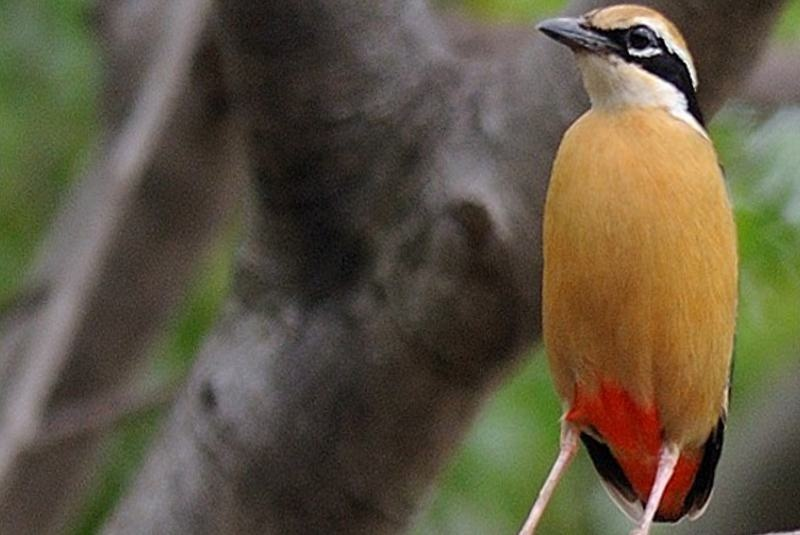pitta: (514, 8, 757, 524)
